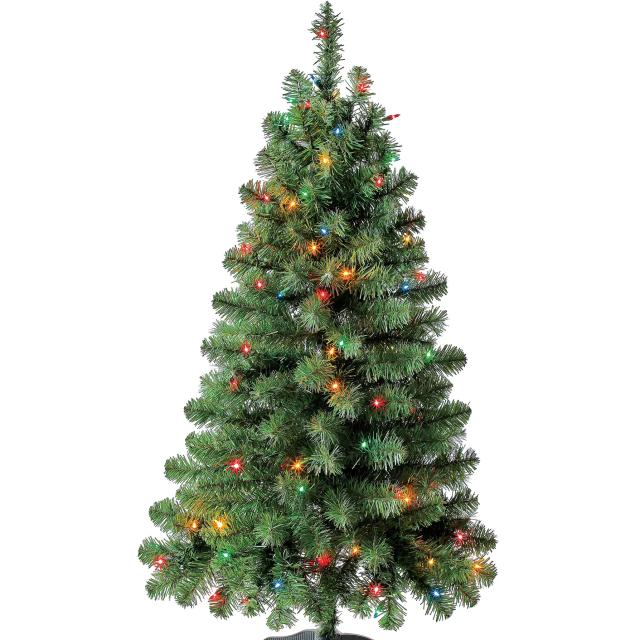Christmas-tree: (89, 2, 605, 640)
